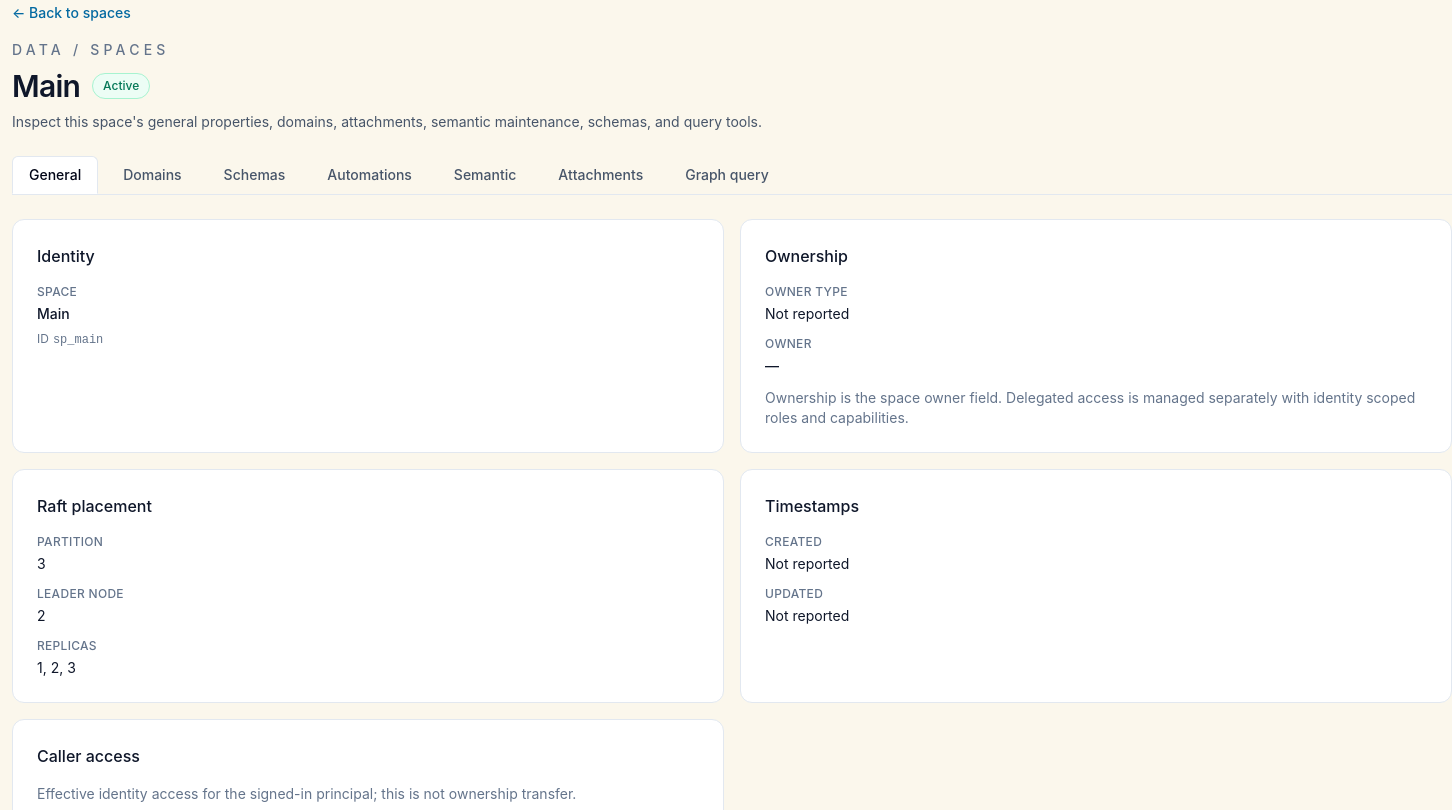
identifies dedicated query console principal when active
Expected: the heading "Main" is shown, [12,68,80,104]
Click the tab "Graph query" at x=727, y=175, box [668,156,786,194]
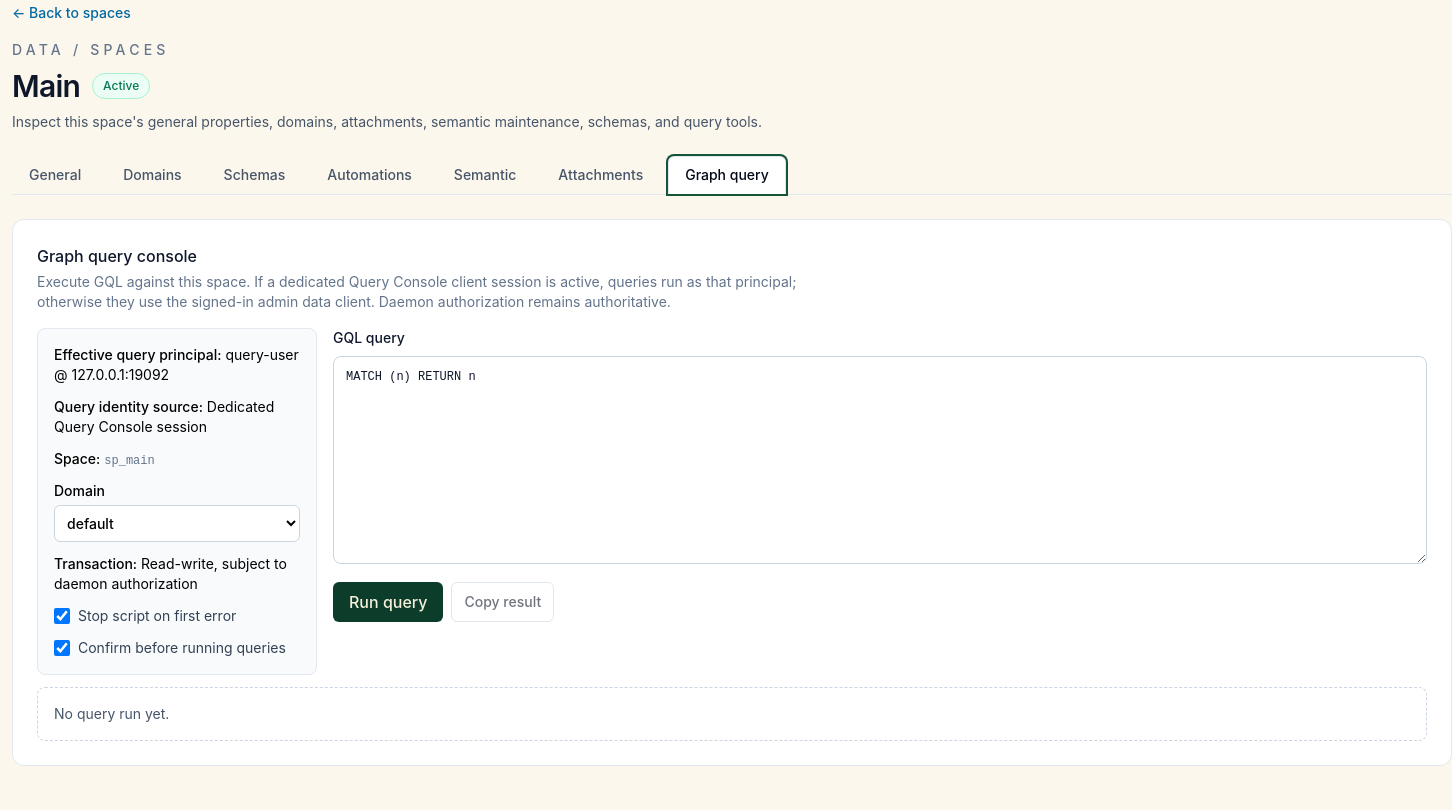
Expected: the text "Effective query principal: query-user @ 127.0.0.1:19092" is shown, [54,345,300,385]
Expected: the text "Dedicated Query Console session" is shown, [54,398,274,435]
